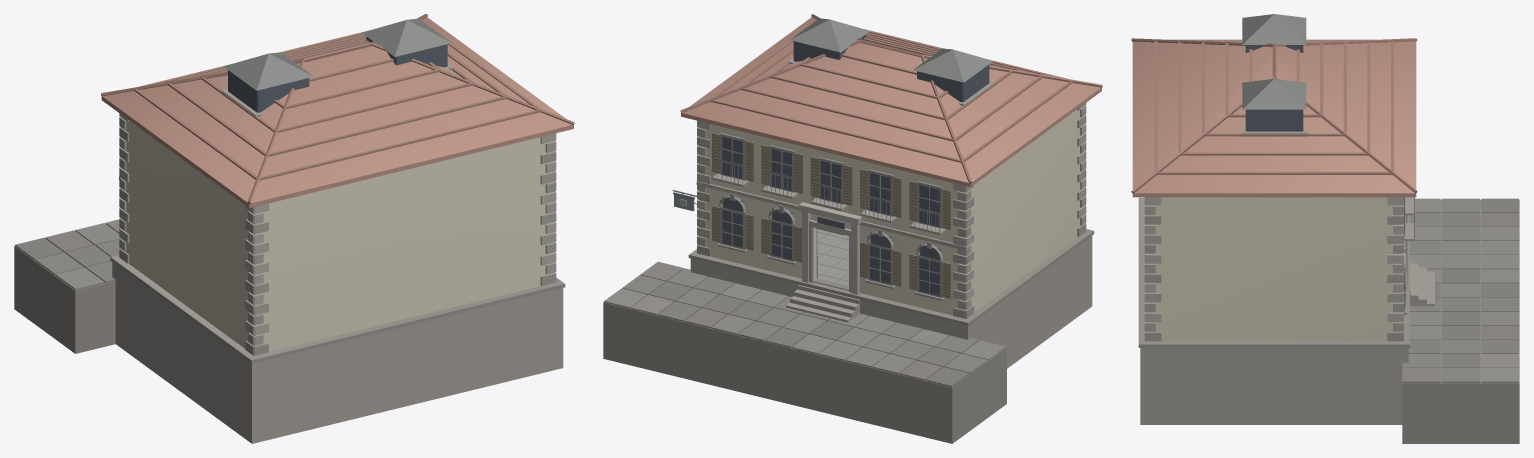
Rendered from gallery_3.gltf.
The picture shows the model from 3 angles, left to right: view 1: azimuth 30°, elevation 25°; view 2: azimuth 150°, elevation 25°; view 3: azimuth 270°, elevation 25°; orthographic projection. The views are drawn at different scales.
Visible parts, largest first — view 1: Body; view 2: Body; view 3: Body.
Part boxes in pixels (left/top/right/bottom): Body: left=14, top=14, right=574, bottom=443; Body: left=603, top=14, right=1102, bottom=443; Body: left=1131, top=14, right=1519, bottom=443.
Bounding box in the file's own units: 17 × 13.2 × 15.2.
